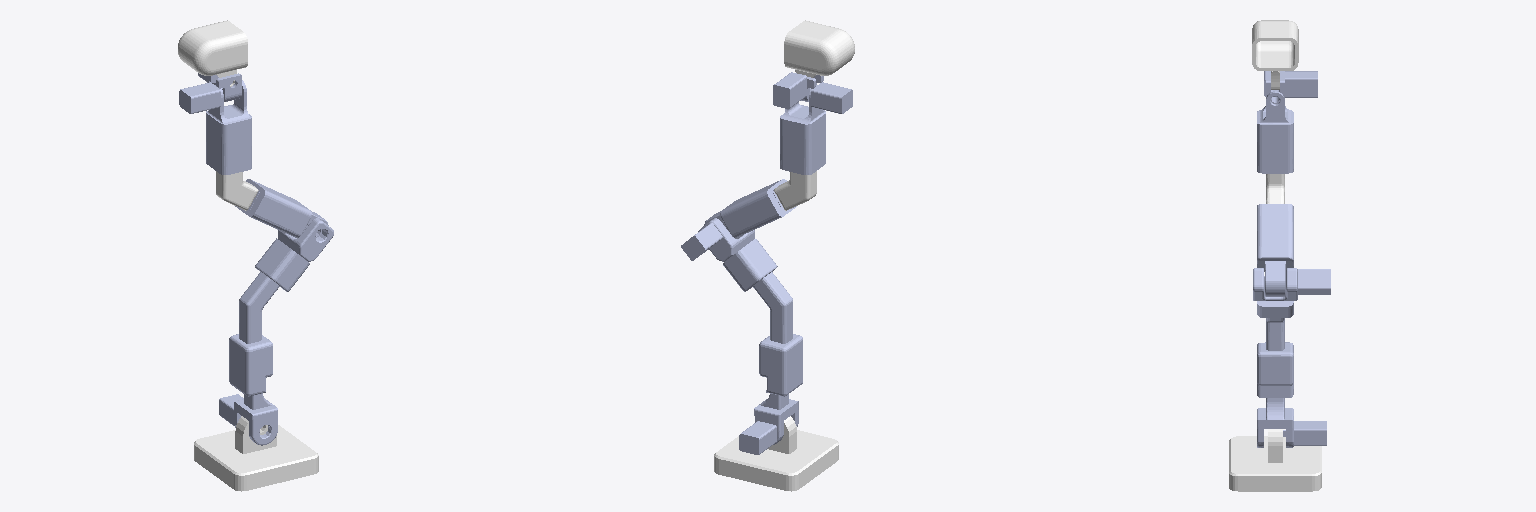
robot.urdf — mechanic_model_urdf:
<?xml version="1.0" encoding="utf-8"?>
<!-- This URDF was automatically created by SolidWorks to URDF Exporter! Originally created by [author] ([email redacted]) 
     Commit Version: 1.6.0-1-g15f4949  Build Version: 1.6.7594.29634
     For more information, please see http://wiki.ros.org/sw_urdf_exporter -->
<robot
  name="mechanic_model_urdf">
  <link
    name="base_link">
    <inertial>
      <origin
        xyz="0 -2.4286E-17 -0.016744"
        rpy="0 0 0" />
      <mass
        value="0" />
      <inertia
        ixx="0"
        ixy="0"
        ixz="0"
        iyy="0"
        iyz="0"
        izz="0" />
    </inertial>
    <visual>
      <origin
        xyz="0 0 0"
        rpy="0 0 0" />
      <geometry>
        <mesh
          filename="package://mechanic_model_urdf/meshes/base_link.STL" />
      </geometry>
      <material
        name="">
        <color
          rgba="1 1 1 1" />
      </material>
    </visual>
    <collision>
      <origin
        xyz="0 0 0"
        rpy="0 0 0" />
      <geometry>
        <mesh
          filename="package://mechanic_model_urdf/meshes/base_link.STL" />
      </geometry>
    </collision>
  </link>
  <link
    name="Link1">
    <inertial>
      <origin
        xyz="0.0078361 0.0029882 0.056607"
        rpy="0 0 0" />
      <mass
        value="0" />
      <inertia
        ixx="0"
        ixy="0"
        ixz="0"
        iyy="0"
        iyz="0"
        izz="0" />
    </inertial>
    <visual>
      <origin
        xyz="0 0 0"
        rpy="0 0 0" />
      <geometry>
        <mesh
          filename="package://mechanic_model_urdf/meshes/Link1.STL" />
      </geometry>
      <material
        name="">
        <color
          rgba="0.79216 0.81961 0.93333 1" />
      </material>
    </visual>
    <collision>
      <origin
        xyz="0 0 0"
        rpy="0 0 0" />
      <geometry>
        <mesh
          filename="package://mechanic_model_urdf/meshes/Link1.STL" />
      </geometry>
    </collision>
  </link>
  <joint
    name="q1"
    type="revolute">
    <origin
      xyz="0 0 0"
      rpy="0 0 0" />
    <parent
      link="base_link" />
    <child
      link="Link1" />
    <axis
      xyz="0 1 0" />
    <limit
      lower="0"
      upper="0"
      effort="0"
      velocity="0" />
  </joint>
  <link
    name="Link2">
    <inertial>
      <origin
        xyz="-0.018533 3.6366E-08 0.013162"
        rpy="0 0 0" />
      <mass
        value="0" />
      <inertia
        ixx="0"
        ixy="0"
        ixz="0"
        iyy="0"
        iyz="0"
        izz="0" />
    </inertial>
    <visual>
      <origin
        xyz="0 0 0"
        rpy="0 0 0" />
      <geometry>
        <mesh
          filename="package://mechanic_model_urdf/meshes/Link2.STL" />
      </geometry>
      <material
        name="">
        <color
          rgba="0.79216 0.81961 0.93333 1" />
      </material>
    </visual>
    <collision>
      <origin
        xyz="0 0 0"
        rpy="0 0 0" />
      <geometry>
        <mesh
          filename="package://mechanic_model_urdf/meshes/Link2.STL" />
      </geometry>
    </collision>
  </link>
  <joint
    name="q2"
    type="revolute">
    <origin
      xyz="0.032355 0 0.10513"
      rpy="0 0 0" />
    <parent
      link="Link1" />
    <child
      link="Link2" />
    <axis
      xyz="0 1 0" />
    <limit
      lower="0"
      upper="0"
      effort="0"
      velocity="0" />
  </joint>
  <link
    name="Link3">
    <inertial>
      <origin
        xyz="-0.0094531 -8.3853E-09 0.0086519"
        rpy="0 0 0" />
      <mass
        value="0" />
      <inertia
        ixx="0"
        ixy="0"
        ixz="0"
        iyy="0"
        iyz="0"
        izz="0" />
    </inertial>
    <visual>
      <origin
        xyz="0 0 0"
        rpy="0 0 0" />
      <geometry>
        <mesh
          filename="package://mechanic_model_urdf/meshes/Link3.STL" />
      </geometry>
      <material
        name="">
        <color
          rgba="1 1 1 1" />
      </material>
    </visual>
    <collision>
      <origin
        xyz="0 0 0"
        rpy="0 0 0" />
      <geometry>
        <mesh
          filename="package://mechanic_model_urdf/meshes/Link3.STL" />
      </geometry>
    </collision>
  </link>
  <joint
    name="q3"
    type="revolute">
    <origin
      xyz="-0.036138 0 0.025038"
      rpy="0 0 0" />
    <parent
      link="Link2" />
    <child
      link="Link3" />
    <axis
      xyz="-0.83164 0 0.55532" />
    <limit
      lower="0"
      upper="0"
      effort="0"
      velocity="0" />
  </joint>
  <link
    name="Link4">
    <inertial>
      <origin
        xyz="-0.0028586 -1.5632E-06 0.020374"
        rpy="0 0 0" />
      <mass
        value="0" />
      <inertia
        ixx="0"
        ixy="0"
        ixz="0"
        iyy="0"
        iyz="0"
        izz="0" />
    </inertial>
    <visual>
      <origin
        xyz="0 0 0"
        rpy="0 0 0" />
      <geometry>
        <mesh
          filename="package://mechanic_model_urdf/meshes/Link4.STL" />
      </geometry>
      <material
        name="">
        <color
          rgba="0.79216 0.81961 0.93333 1" />
      </material>
    </visual>
    <collision>
      <origin
        xyz="0 0 0"
        rpy="0 0 0" />
      <geometry>
        <mesh
          filename="package://mechanic_model_urdf/meshes/Link4.STL" />
      </geometry>
    </collision>
  </link>
  <joint
    name="q4"
    type="revolute">
    <origin
      xyz="-0.012178 0 0.021314"
      rpy="0 0 0" />
    <parent
      link="Link3" />
    <child
      link="Link4" />
    <axis
      xyz="0 0 1" />
    <limit
      lower="0"
      upper="0"
      effort="0"
      velocity="0" />
  </joint>
  <link
    name="Link5">
    <inertial>
      <origin
        xyz="-0.00022016 0.0096004 0.0049591"
        rpy="0 0 0" />
      <mass
        value="0" />
      <inertia
        ixx="0"
        ixy="0"
        ixz="0"
        iyy="0"
        iyz="0"
        izz="0" />
    </inertial>
    <visual>
      <origin
        xyz="0 0 0"
        rpy="0 0 0" />
      <geometry>
        <mesh
          filename="package://mechanic_model_urdf/meshes/Link5.STL" />
      </geometry>
      <material
        name="">
        <color
          rgba="0.79216 0.81961 0.93333 1" />
      </material>
    </visual>
    <collision>
      <origin
        xyz="0 0 0"
        rpy="0 0 0" />
      <geometry>
        <mesh
          filename="package://mechanic_model_urdf/meshes/Link5.STL" />
      </geometry>
    </collision>
  </link>
  <joint
    name="q5"
    type="revolute">
    <origin
      xyz="-0.00017999 0 0.042341"
      rpy="0 0 0" />
    <parent
      link="Link4" />
    <child
      link="Link5" />
    <axis
      xyz="1 0 0" />
    <limit
      lower="0"
      upper="0"
      effort="0"
      velocity="0" />
  </joint>
  <link
    name="Link6">
    <inertial>
      <origin
        xyz="-0.0099947 -1.9343E-09 0.018389"
        rpy="0 0 0" />
      <mass
        value="0" />
      <inertia
        ixx="0"
        ixy="0"
        ixz="0"
        iyy="0"
        iyz="0"
        izz="0" />
    </inertial>
    <visual>
      <origin
        xyz="0 0 0"
        rpy="0 0 0" />
      <geometry>
        <mesh
          filename="package://mechanic_model_urdf/meshes/Link6.STL" />
      </geometry>
      <material
        name="">
        <color
          rgba="1 1 1 0.85" />
      </material>
    </visual>
    <collision>
      <origin
        xyz="0 0 0"
        rpy="0 0 0" />
      <geometry>
        <mesh
          filename="package://mechanic_model_urdf/meshes/Link6.STL" />
      </geometry>
    </collision>
  </link>
  <joint
    name="q6"
    type="revolute">
    <origin
      xyz="0 0 0.006"
      rpy="0 0 0" />
    <parent
      link="Link5" />
    <child
      link="Link6" />
    <axis
      xyz="0 1 0" />
    <limit
      lower="0"
      upper="0"
      effort="0"
      velocity="0" />
  </joint>
</robot>

--- Facts derived from the render (not from the file) ---
3 views of the same robot in one strip: view 1: azimuth 30°, elevation 25°; view 2: azimuth 150°, elevation 25°; view 3: azimuth 270°, elevation 25° (orthographic).
Robot: mechanic_model_urdf — 7 links, 6 joints (6 revolute); root link base_link; default pose: all joints at 0.
Links seen in each view (by area): view 1: Link1, base_link, Link4, Link6, Link2, Link3, Link5; view 2: Link1, base_link, Link4, Link6, Link2, Link5, Link3; view 3: Link1, base_link, Link2, Link4, Link6, Link5, Link3.
Boxes of the visible links, left/top/right/bottom form: Link1: left=219, top=218, right=333, bottom=445; base_link: left=194, top=416, right=318, bottom=491; Link4: left=179, top=80, right=251, bottom=174; Link6: left=178, top=20, right=247, bottom=86; Link2: left=235, top=179, right=328, bottom=237; Link3: left=216, top=171, right=258, bottom=210; Link5: left=198, top=73, right=241, bottom=101; Link1: left=681, top=218, right=802, bottom=454; base_link: left=714, top=416, right=838, bottom=491; Link4: left=780, top=82, right=852, bottom=174; Link6: left=784, top=20, right=854, bottom=77; Link2: left=704, top=179, right=796, bottom=237; Link5: left=773, top=72, right=823, bottom=108; Link3: left=774, top=171, right=816, bottom=210; Link1: left=1253, top=268, right=1330, bottom=447; base_link: left=1229, top=429, right=1321, bottom=491; Link2: left=1257, top=204, right=1293, bottom=296; Link4: left=1257, top=71, right=1293, bottom=173; Link6: left=1252, top=20, right=1298, bottom=89; Link5: left=1266, top=71, right=1317, bottom=103; Link3: left=1266, top=174, right=1284, bottom=203.
Bounding box of the posed robot: 0.0826 × 0.055 × 0.2528 m (x, y, z).
7 mesh visuals loaded from 7 distinct referenced files (7 binary STL).